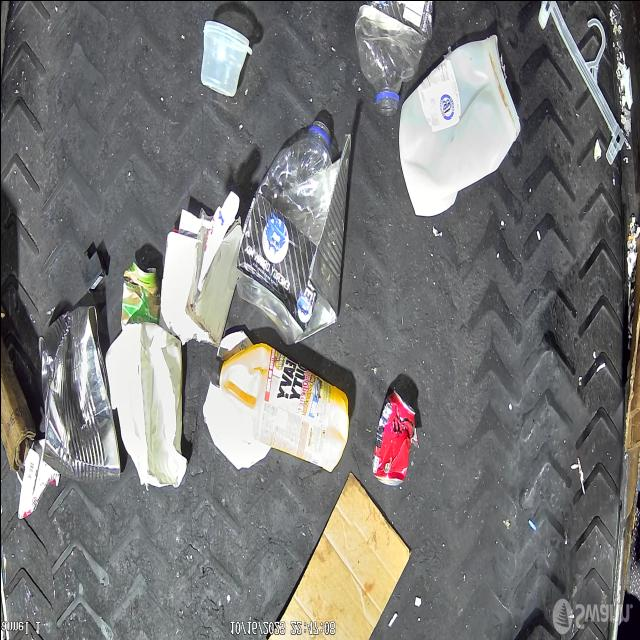can: (36, 306, 122, 481), (370, 387, 416, 485), (121, 262, 163, 324)
milk_jug: (398, 33, 520, 213)
non_white_jug: (210, 342, 348, 472)
plastic_bottle: (231, 123, 331, 347), (352, 0, 428, 114)
